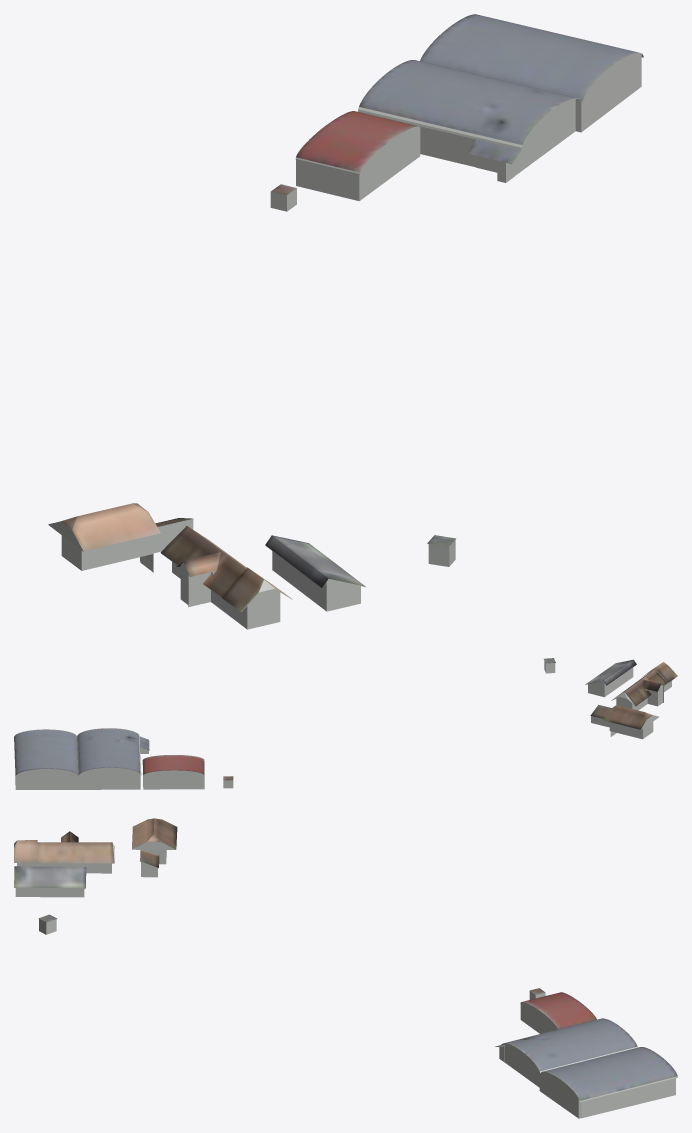
Rendered from LSZB_1_-2.glb.
3 renders of one model, top to bottom at view 1: azimuth 30°, elevation 25°; view 2: azimuth 150°, elevation 25°; view 3: azimuth 270°, elevation 25°, orthographic. The views are drawn at different scales.
Parts seen in each view (by area): view 1: building_dddf7d2e2a36c374, building_8d76a5fca51cde4b, building_a597e56197e402cf, building_0c0a0e38484203dc; view 2: building_dddf7d2e2a36c374, building_8d76a5fca51cde4b, building_a597e56197e402cf, building_0c0a0e38484203dc; view 3: building_dddf7d2e2a36c374, building_a597e56197e402cf, building_8d76a5fca51cde4b, building_0c0a0e38484203dc.
Boxes of the visible parts, x1=… form: building_dddf7d2e2a36c374: x1=270, y1=14, x2=643, y2=195; building_8d76a5fca51cde4b: x1=270, y1=53, x2=641, y2=211; building_a597e56197e402cf: x1=48, y1=503, x2=456, y2=612; building_0c0a0e38484203dc: x1=61, y1=519, x2=455, y2=629; building_dddf7d2e2a36c374: x1=14, y1=728, x2=233, y2=780; building_8d76a5fca51cde4b: x1=15, y1=747, x2=233, y2=789; building_a597e56197e402cf: x1=544, y1=658, x2=677, y2=729; building_0c0a0e38484203dc: x1=544, y1=661, x2=671, y2=739; building_dddf7d2e2a36c374: x1=495, y1=988, x2=677, y2=1102; building_a597e56197e402cf: x1=14, y1=818, x2=177, y2=922; building_8d76a5fca51cde4b: x1=499, y1=991, x2=675, y2=1118; building_0c0a0e38484203dc: x1=15, y1=850, x2=166, y2=934.
Bounding box in the file's own units: 316 × 21.23 × 321.
Materials: 2 (1 with a texture image).
